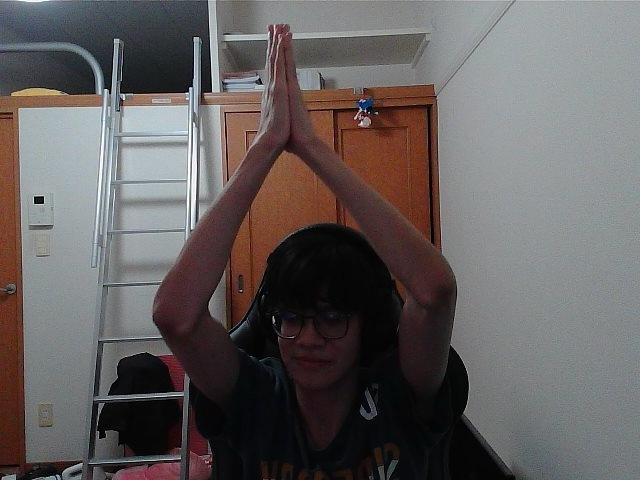pray: (281, 34, 290, 135)
